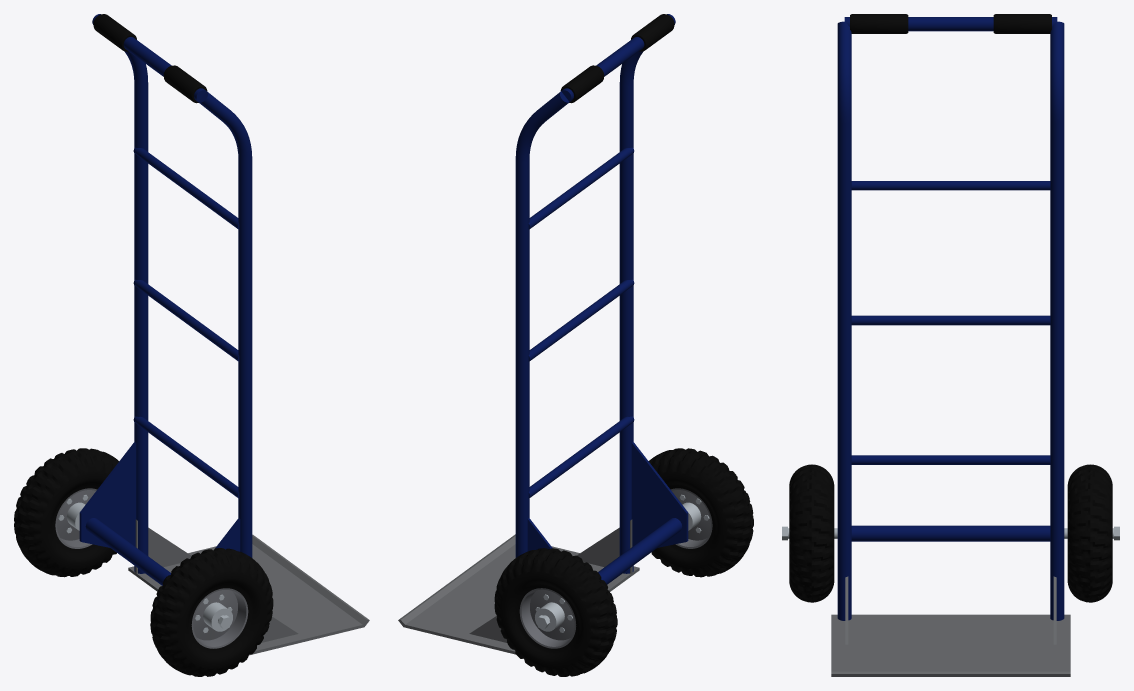
Rendered from sacktruck.glb.
3 renders of one model, left to right at view 1: azimuth 30°, elevation 25°; view 2: azimuth 150°, elevation 25°; view 3: azimuth 270°, elevation 25°, orthographic. The views are drawn at different scales.
Parts seen in each view (by area): view 1: Frame (uprights, cross bars, axle brackets, axle), Wheel left, Wheel right, Toe plate, Handle grips; view 2: Frame (uprights, cross bars, axle brackets, axle), Wheel right, Wheel left, Toe plate, Handle grips; view 3: Frame (uprights, cross bars, axle brackets, axle), Toe plate, Wheel right, Wheel left, Handle grips.
Boxes of the visible parts, bbox=[...] form: Frame (uprights, cross bars, axle brackets, axle): bbox=[79, 14, 252, 629]; Wheel left: bbox=[150, 548, 273, 676]; Wheel right: bbox=[14, 448, 118, 577]; Toe plate: bbox=[128, 519, 369, 655]; Handle grips: bbox=[93, 14, 207, 103]; Frame (uprights, cross bars, axle brackets, axle): bbox=[515, 14, 688, 628]; Wheel right: bbox=[494, 548, 617, 676]; Wheel left: bbox=[648, 448, 753, 577]; Toe plate: bbox=[398, 519, 639, 654]; Handle grips: bbox=[560, 14, 674, 103]; Frame (uprights, cross bars, axle brackets, axle): bbox=[782, 17, 1119, 620]; Toe plate: bbox=[831, 576, 1070, 676]; Wheel right: bbox=[1067, 464, 1112, 602]; Wheel left: bbox=[789, 464, 834, 602]; Handle grips: bbox=[850, 14, 1051, 33].
Size of the model in its own units: 0.502 by 1.21 by 0.636.
